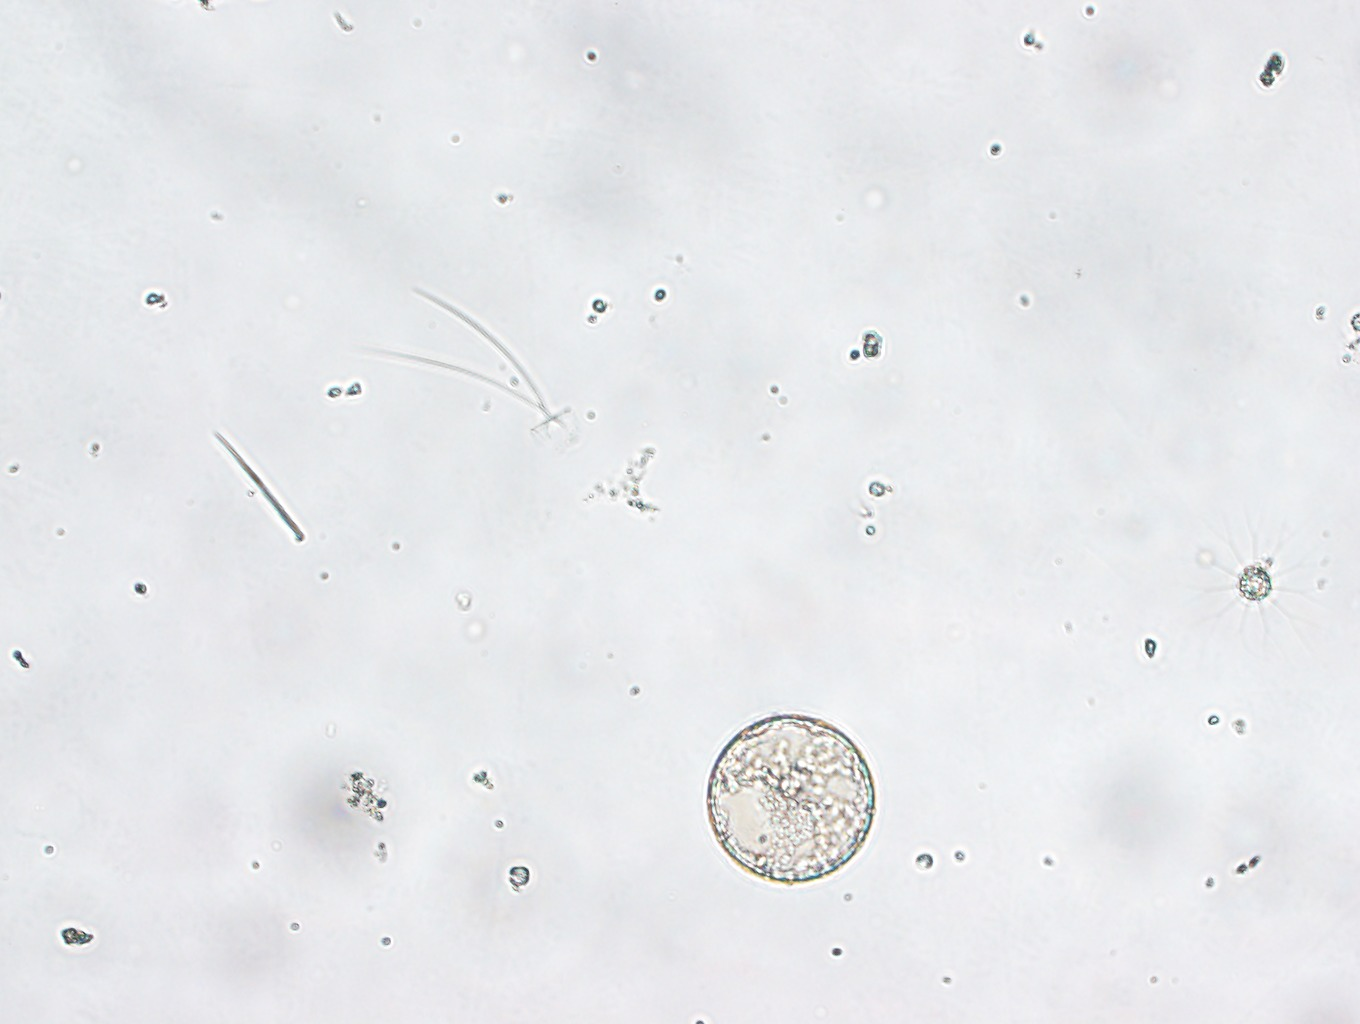coscinodiscus: (702, 708, 877, 885)
